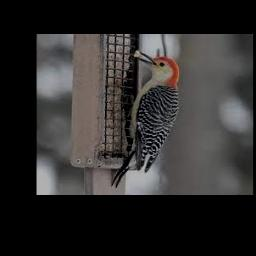Woodpecker: (111, 51, 179, 187)
